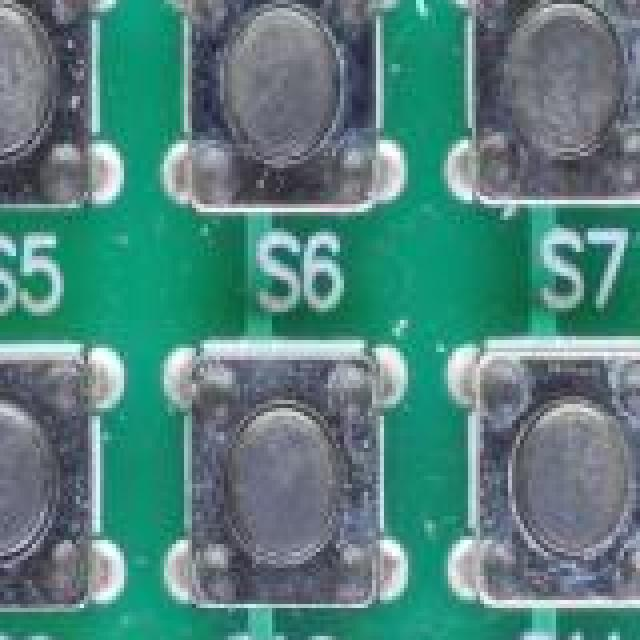switch: (180, 368, 378, 612), (452, 348, 640, 600), (448, 0, 640, 208), (188, 0, 376, 212), (0, 364, 80, 592), (0, 0, 84, 216)
